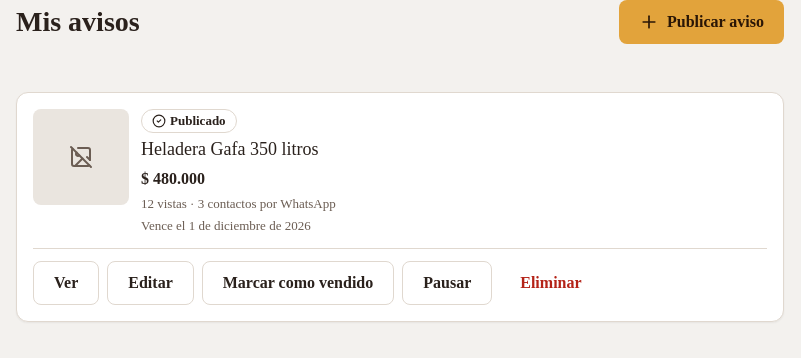
Test: MisAvisosPage › pausa un aviso activo (pasa a borrador)
Click the button "Pausar" at (447, 283), box [402,261,492,305]
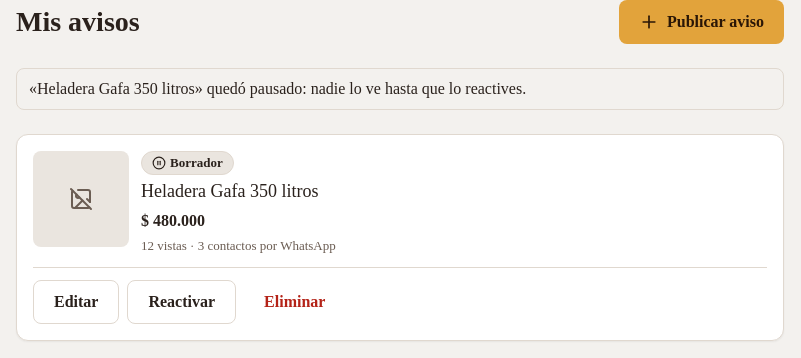
Expected: the text "Borrador" is shown, [141,151,234,175]
